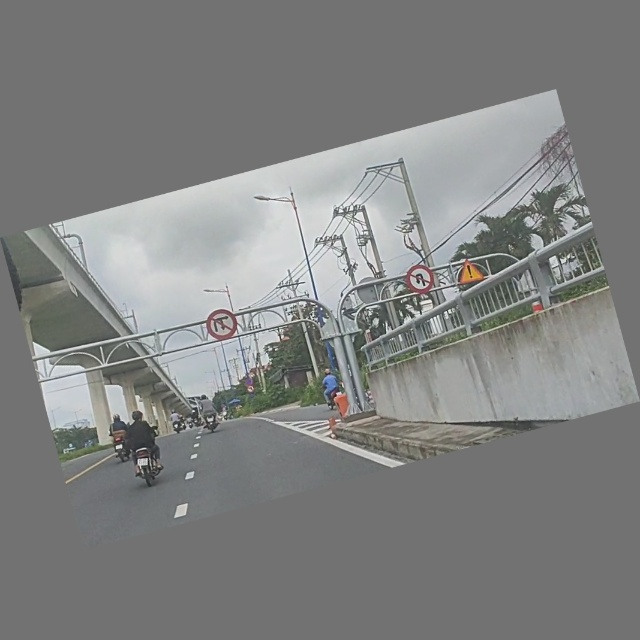P.123a: (246, 385, 257, 394)
P.124a*: (401, 262, 436, 297)
P.124d: (203, 306, 242, 345)
P.130: (243, 376, 255, 387)
W.233: (454, 256, 486, 286)
